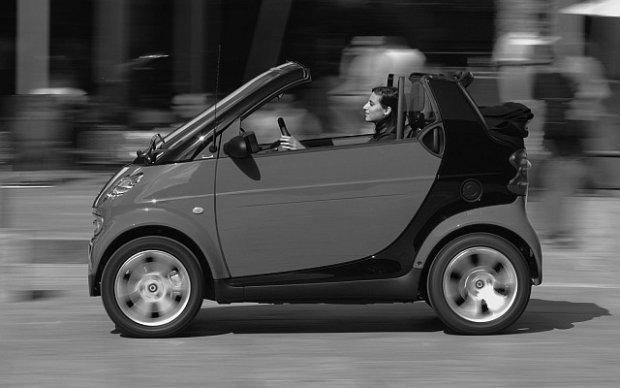car: (89, 58, 545, 338)
